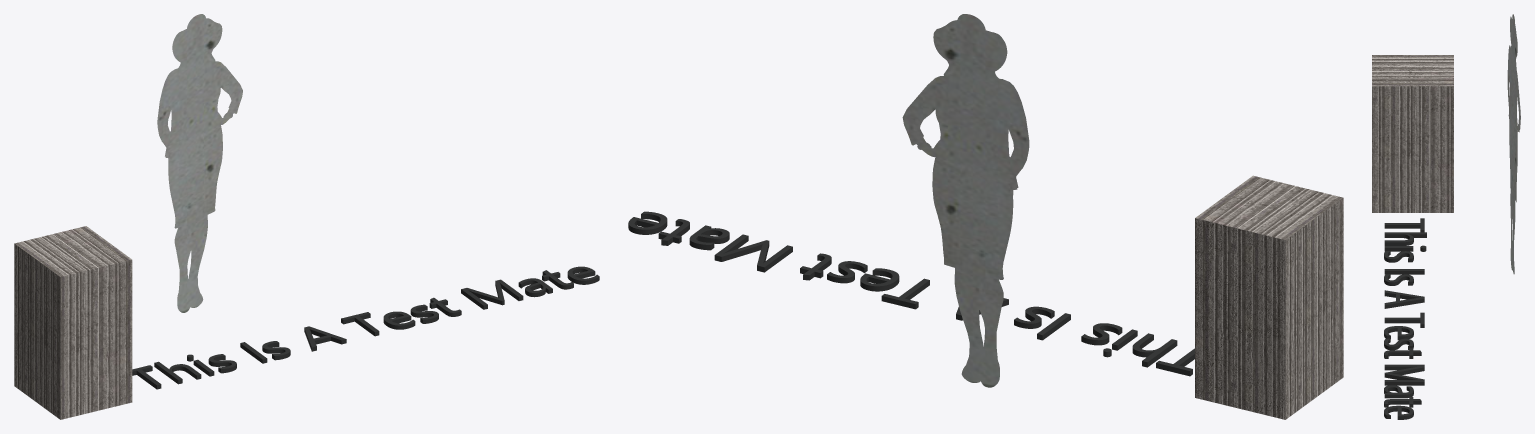
File: 3d_java_test.glb
3 renders of one model, left to right at view 1: azimuth 30°, elevation 25°; view 2: azimuth 150°, elevation 25°; view 3: azimuth 270°, elevation 25°, orthographic. The views are drawn at different scales.
Parts seen in each view (by area): view 1: root; view 2: root; view 3: root.
Boxes of the visible parts, x1,y1,x2,y2 form: root: (14, 14, 599, 419); root: (628, 14, 1343, 419); root: (1372, 14, 1520, 419).
Bounding box in the file's own units: 3.44 × 1.76 × 0.909.
3 materials, 2 textured.
